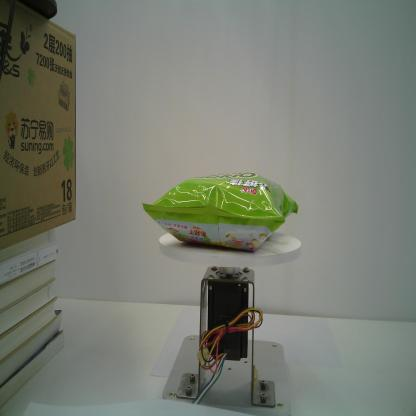Puffed Food: (141, 172, 300, 254)
